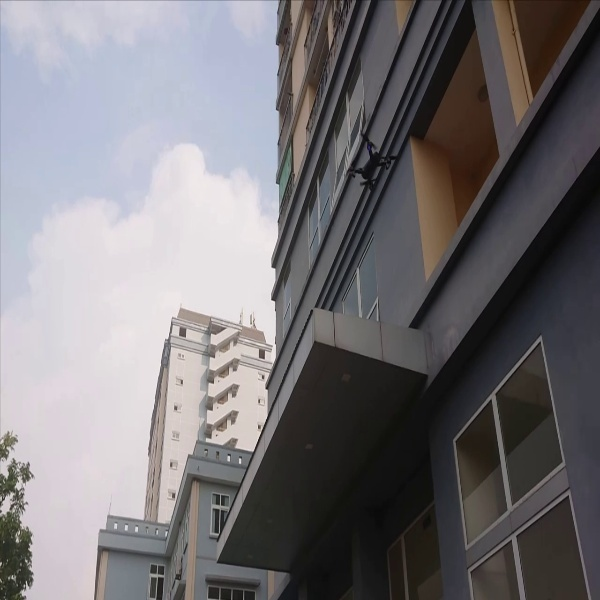drone: (342, 128, 400, 201)
